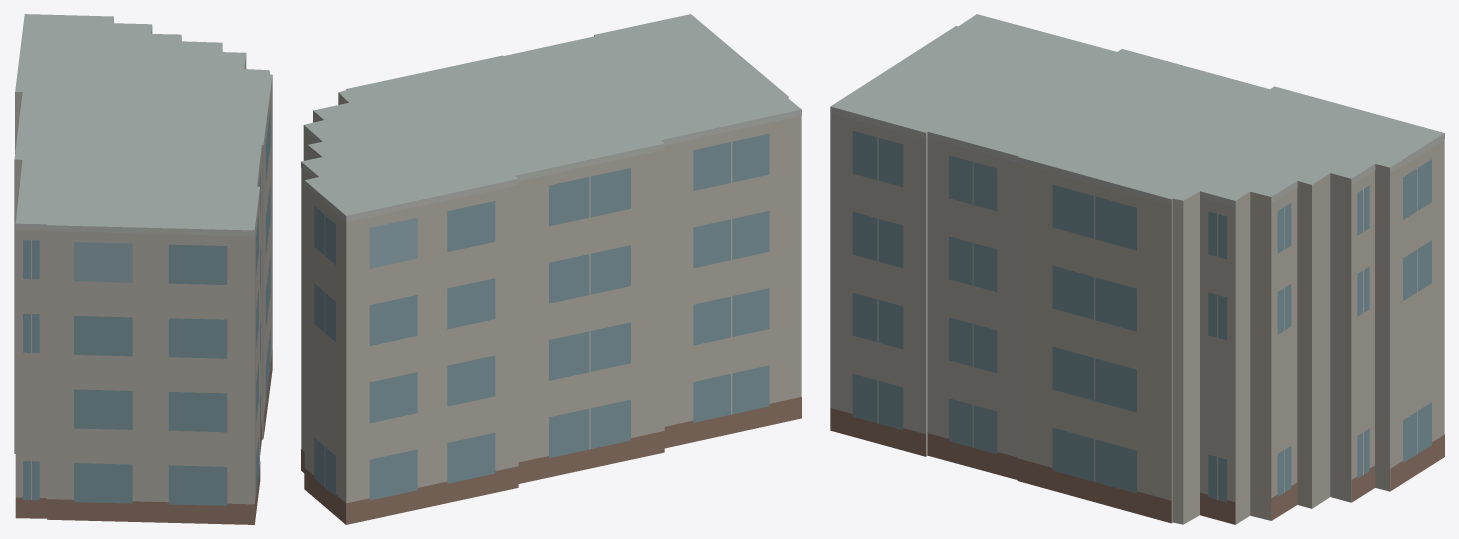
The model's file is survey-upis-32815341.glb.
The picture shows the model from 3 angles, left to right: view 1: azimuth 30°, elevation 25°; view 2: azimuth 150°, elevation 25°; view 3: azimuth 270°, elevation 25°; orthographic projection. The views are drawn at different scales.
Parts seen in each view (by area): view 1: survey-upis-32815341.tmp; view 2: survey-upis-32815341.tmp; view 3: survey-upis-32815341.tmp.
Part boxes in pixels (x1,y1,x2,y2): survey-upis-32815341.tmp: (14,14,272,524); survey-upis-32815341.tmp: (301,14,801,524); survey-upis-32815341.tmp: (830,14,1444,524).
Bounding box in the file's own units: 15.1 × 12.2 × 20.98.
